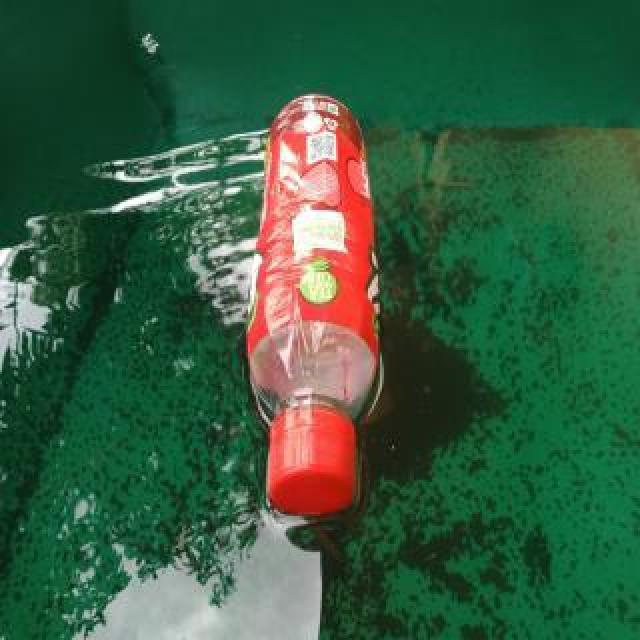bottle: (240, 86, 384, 520)
